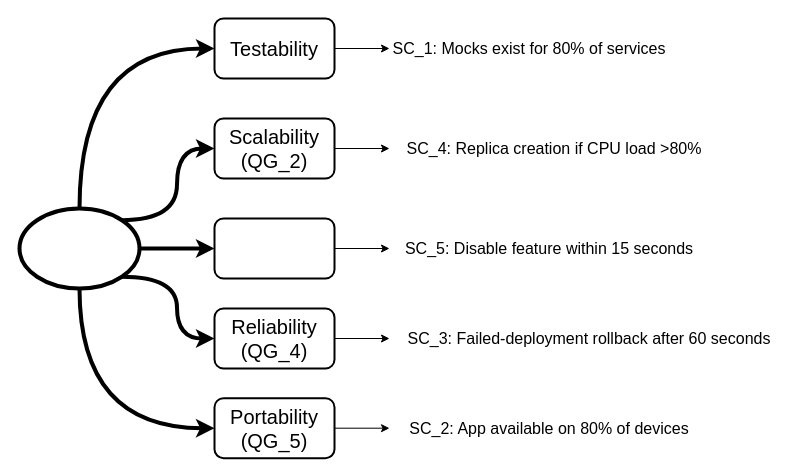
Image size: 806x476. Some labels were removed from this diagram. Here are the shapes that lost their labels. From the top down, the centre of each, then its label:
At point (79, 248): "Qualities".
At point (274, 248): "Operability".
